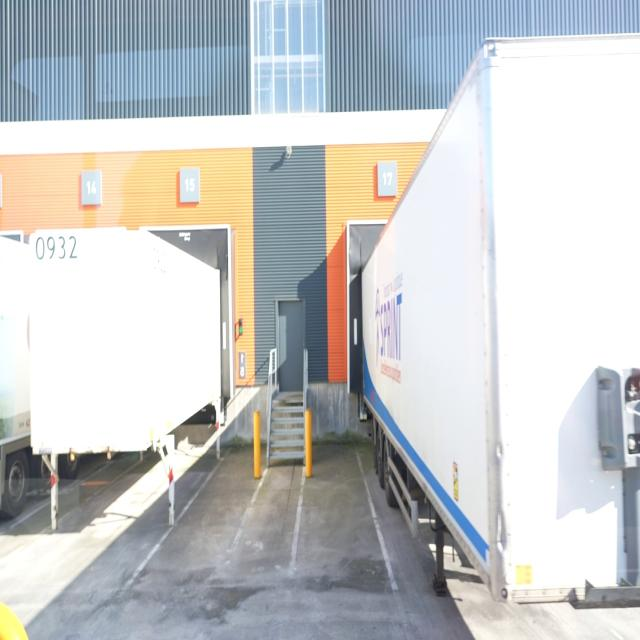Code: (31, 230, 79, 268)
